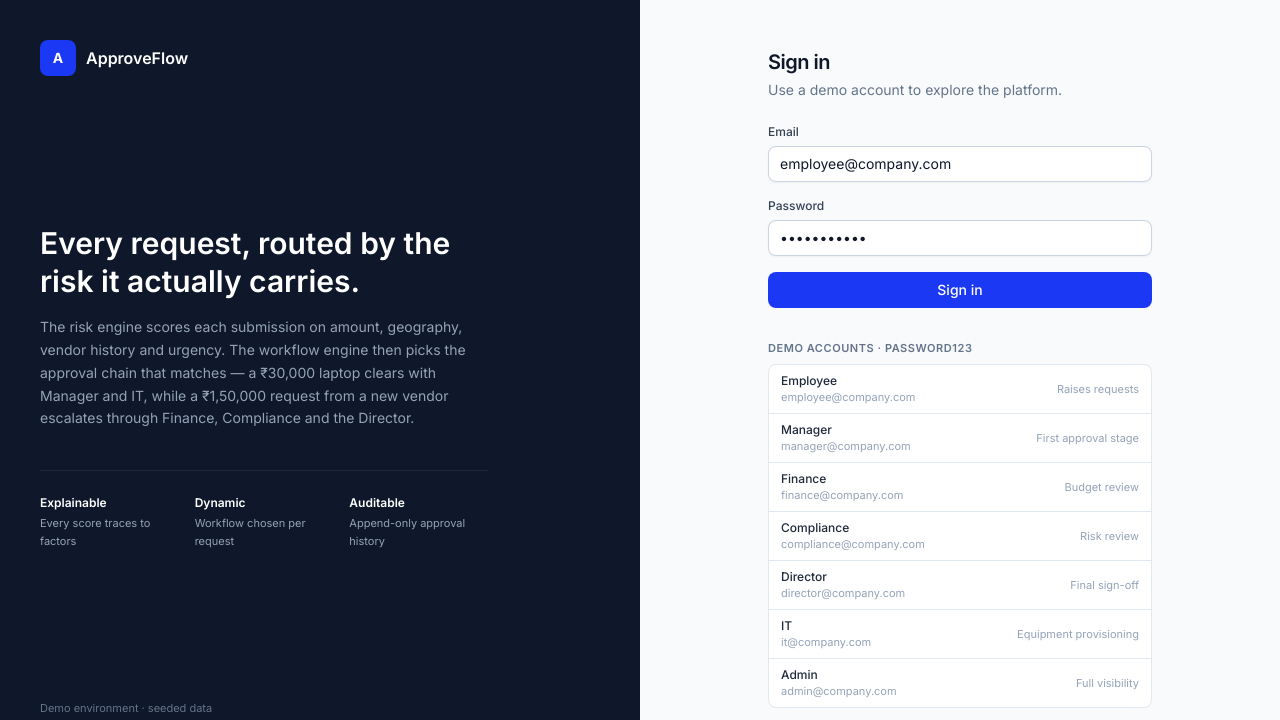
Scenario: Login page › fills the form from a demo account shortcut
Step 1. Click the button "Compliance compliance@company.com Risk review" → (815, 528), box [769, 511, 1151, 560]
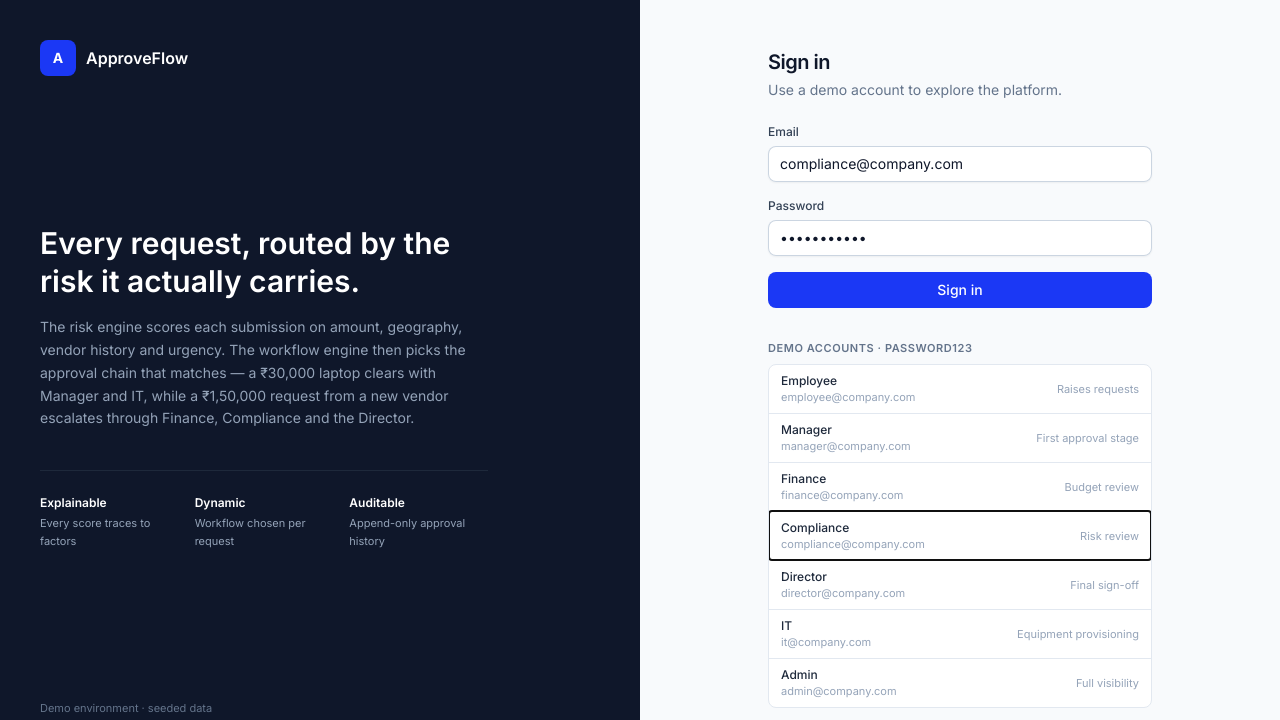
Result: the field labelled "Email" holds "compliance@company.com" at [768, 146, 1152, 182]
